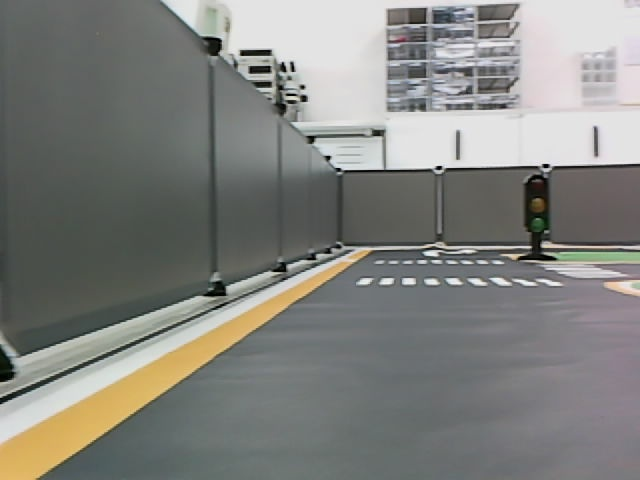crosswalk: (353, 274, 563, 292), (373, 256, 504, 267)
